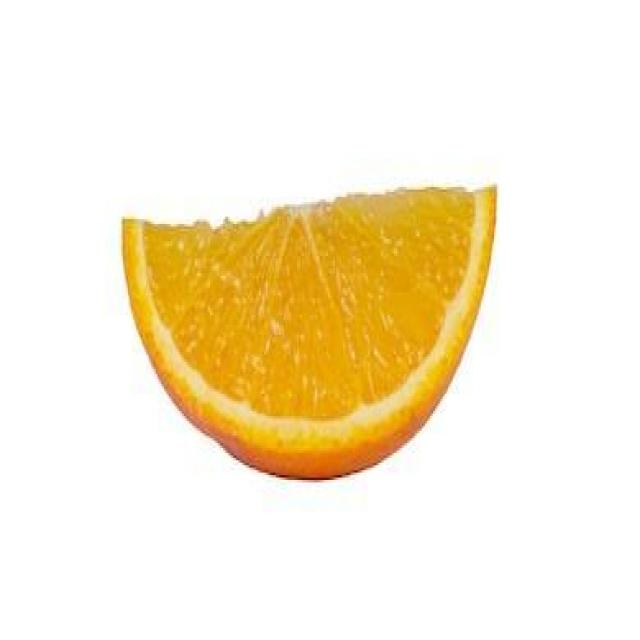orange: (101, 179, 509, 484)
